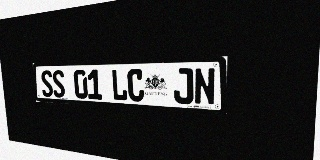0: (73, 70, 88, 99)
1: (87, 69, 102, 100)
C: (127, 69, 145, 102)
J: (173, 68, 193, 104)
L: (111, 69, 128, 101)
N: (194, 68, 215, 105)
S: (52, 70, 66, 98), (40, 70, 54, 97)
